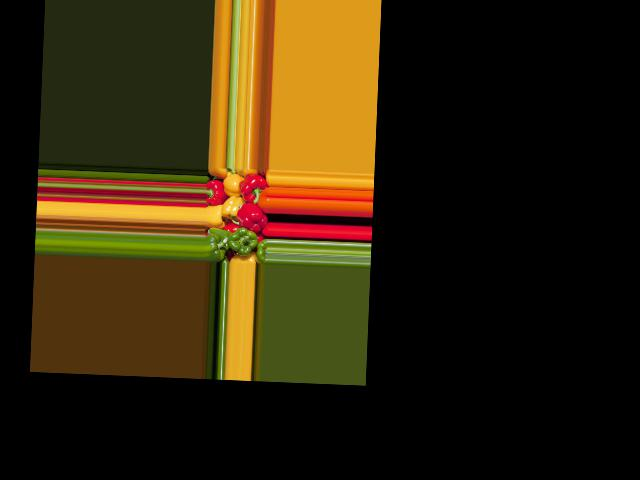bell_pepper: (252, 238, 268, 264)
